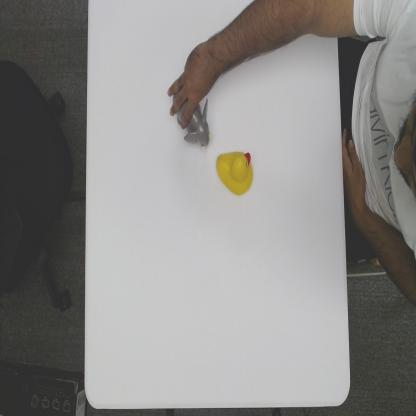Arm: (218, 0, 342, 77)
Duck: (215, 149, 255, 195)
Elephant: (174, 93, 209, 152)
Hand: (167, 44, 220, 119)
